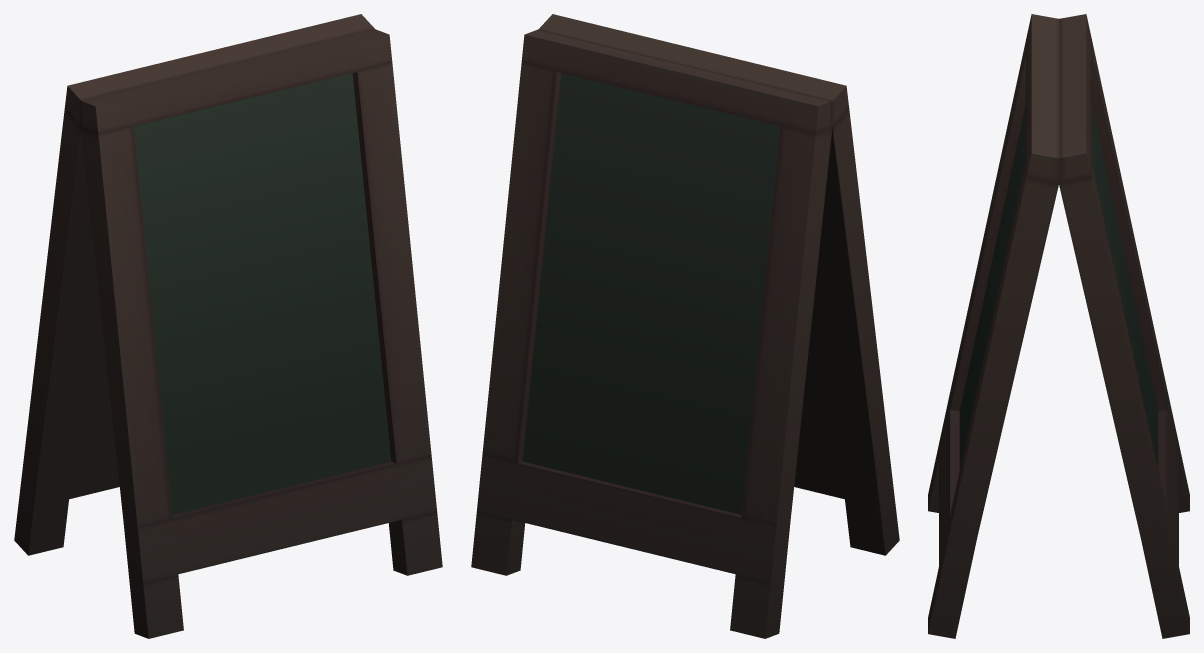
The model's file is Cafe sign.fbx.
3 views of the same model, side by side, from view 1: azimuth 30°, elevation 25°; view 2: azimuth 150°, elevation 25°; view 3: azimuth 270°, elevation 25° (orthographic). The views are drawn at different scales.
Parts seen in each view (by area): view 1: Sign; view 2: Sign; view 3: Sign.
Boxes of the visible parts, x1=… form: Sign: x1=14, y1=14, x2=442, y2=638; Sign: x1=471, y1=14, x2=899, y2=638; Sign: x1=928, y1=14, x2=1189, y2=638.
Bounding box in the file's own units: 1.16 × 1.88 × 0.9211.
1 material, 1 textured.
